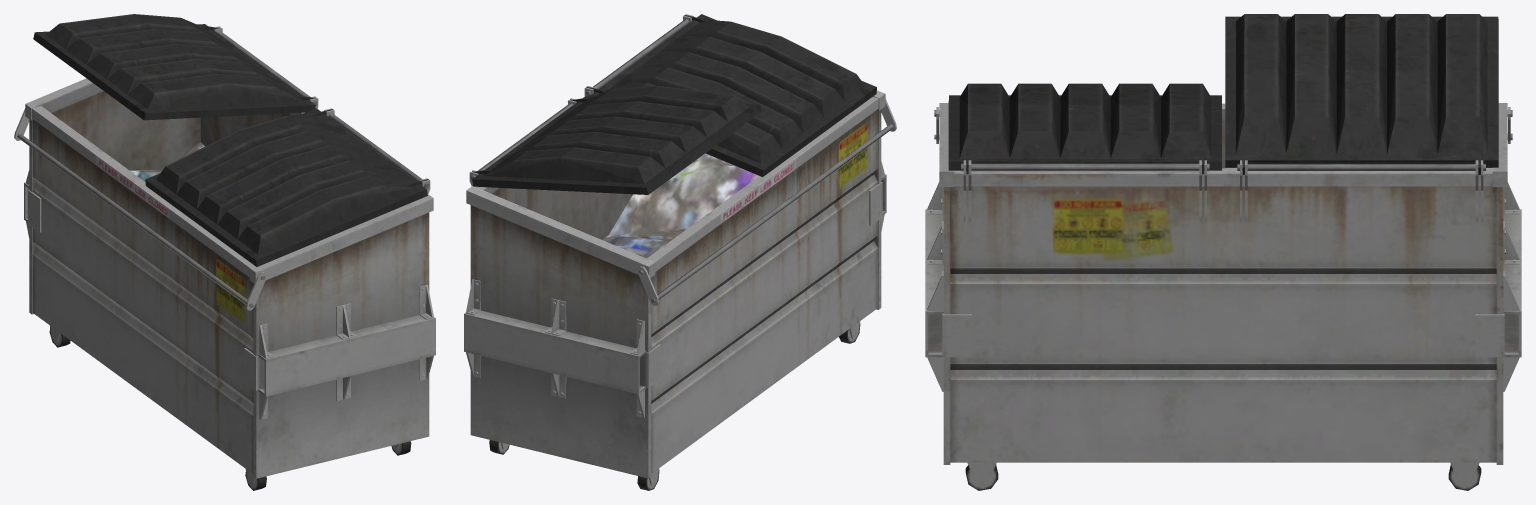
Rendered from Hotel_Dumpster01.fbx.
3 views of the same model, side by side, from view 1: azimuth 30°, elevation 25°; view 2: azimuth 150°, elevation 25°; view 3: azimuth 270°, elevation 25° (orthographic). The views are drawn at different scales.
Visible parts, largest first — view 1: ItemBox_Dumpster_01_0_3; view 2: ItemBox_Dumpster_01_0_3; view 3: ItemBox_Dumpster_01_0_3.
Boxes of the visible parts, x1=… form: ItemBox_Dumpster_01_0_3: x1=14, y1=14, x2=435, y2=490; ItemBox_Dumpster_01_0_3: x1=464, y1=14, x2=896, y2=490; ItemBox_Dumpster_01_0_3: x1=925, y1=14, x2=1521, y2=490.
Size of the model in its own units: 113 by 174 by 241.
1 material, 1 textured.
